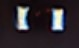COMP: (8, 2, 72, 37)
